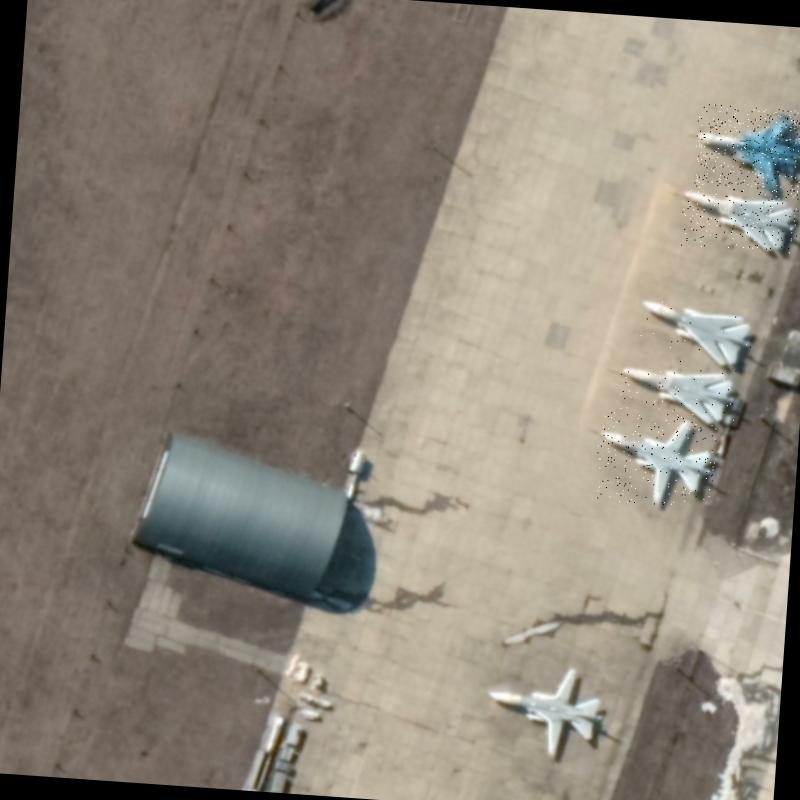A19: (692, 103, 800, 196)
A20: (482, 659, 608, 762), (594, 411, 718, 508), (638, 298, 754, 368), (617, 362, 738, 426), (680, 188, 799, 253)
